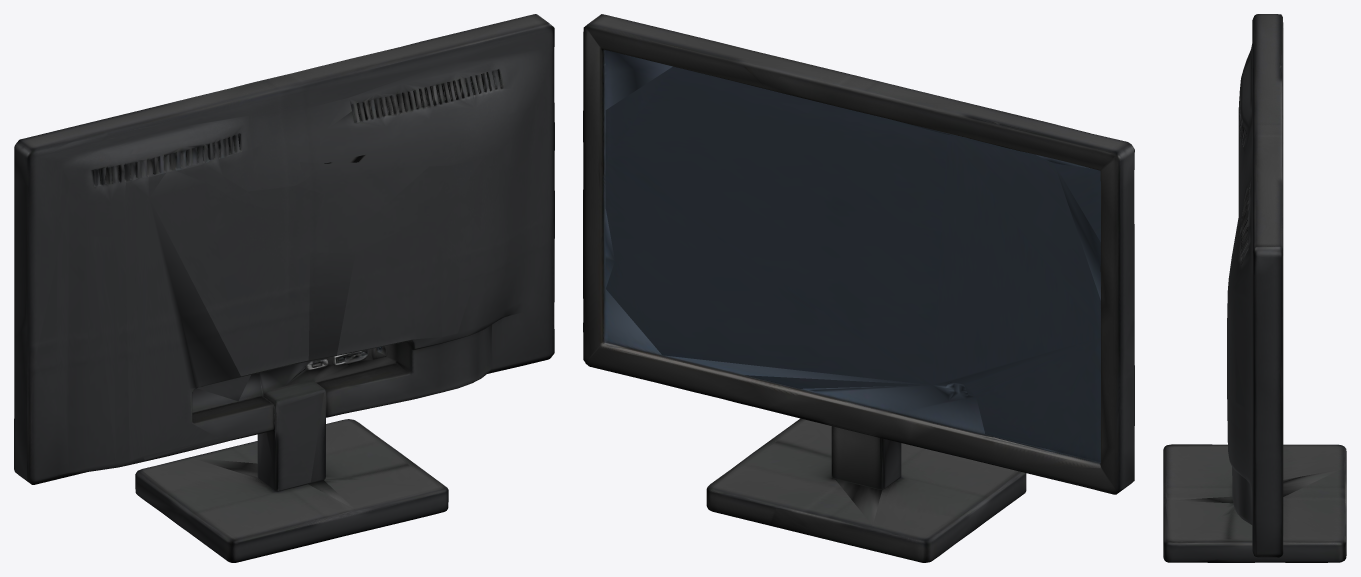
File: monitor-v67.glb
3 views of the same model, side by side, from view 1: azimuth 30°, elevation 25°; view 2: azimuth 150°, elevation 25°; view 3: azimuth 270°, elevation 25° (orthographic). The views are drawn at different scales.
Visible parts, largest first — view 1: monitor-surface; view 2: monitor-surface; view 3: monitor-surface.
Boxes of the visible parts, x1,y1,x2,y2 form: monitor-surface: [14, 14, 554, 562]; monitor-surface: [583, 14, 1134, 562]; monitor-surface: [1163, 14, 1346, 562].
Size of the model in its own units: 0.66 by 0.4964 by 0.2148.
1 material, 1 textured.
